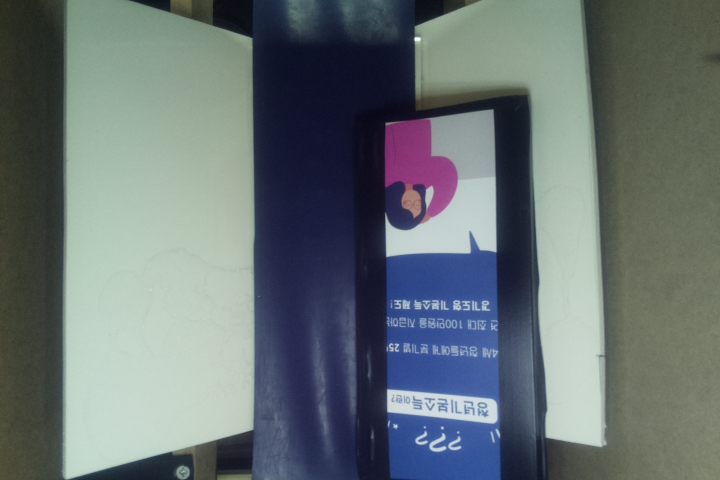book: (354, 93, 547, 480)
